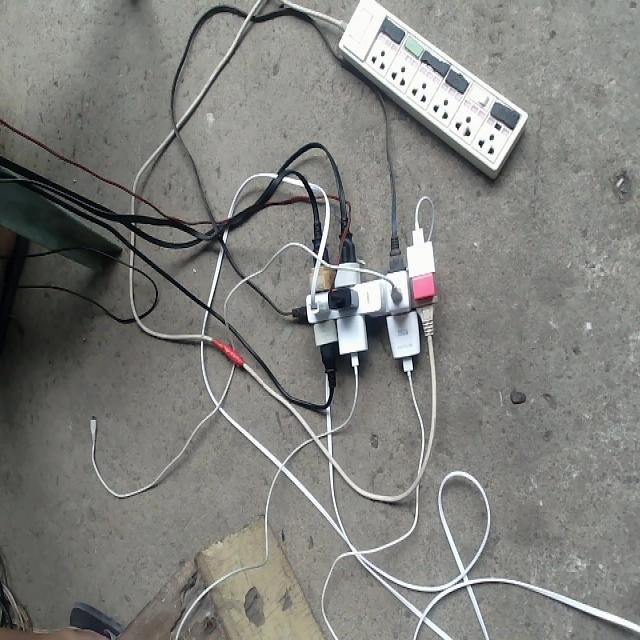-: (247, 164, 487, 412)
